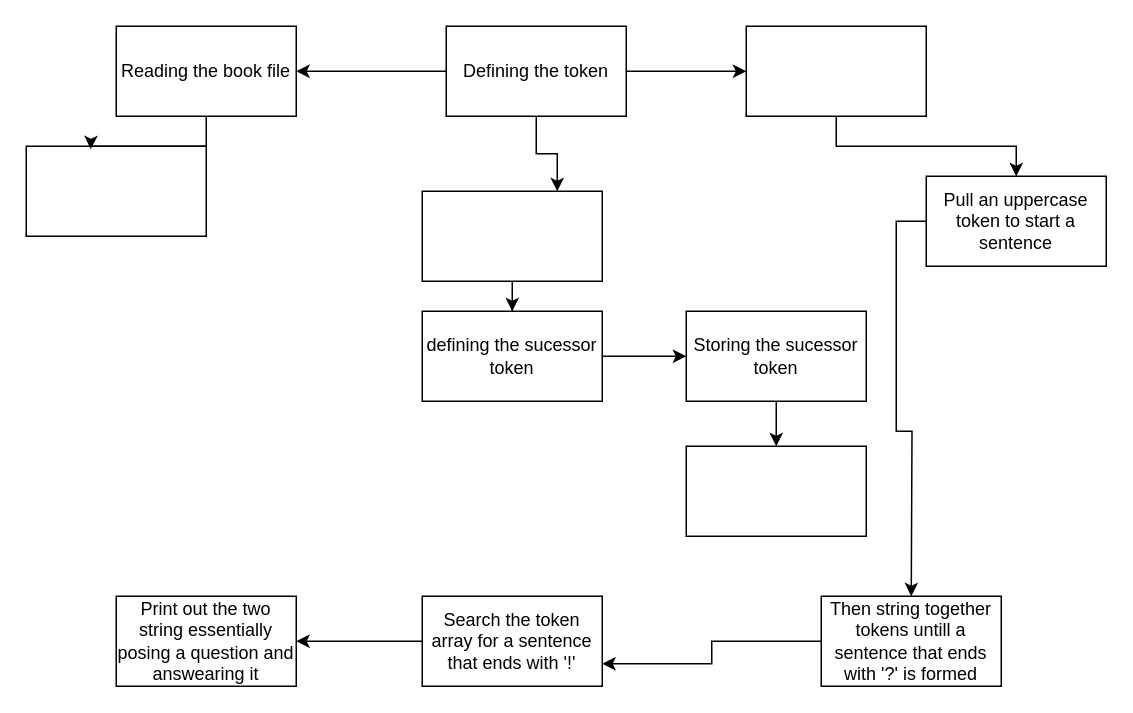
This 1133x713 diagram has some shape labels left out. The centre of each missing label's shape, as x and y in pixels:
add the successor token to the array of tokens: point 775,490
Creating different categories of tokens (Uppercase, !, ?): point 835,70
Replacing non printable characters: point 115,190
Storing the token: point 511,235
